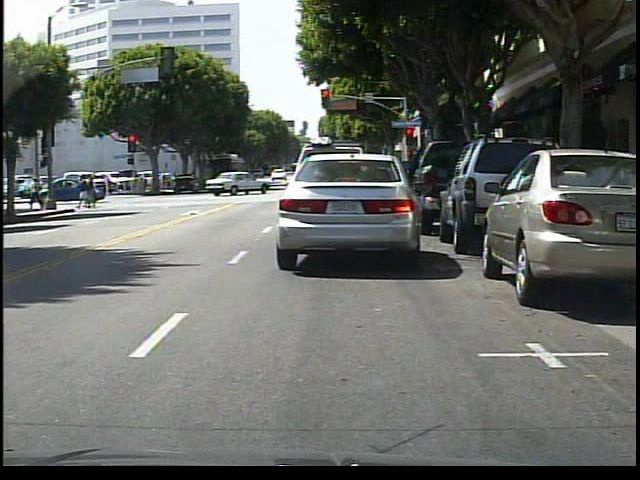person: (79, 176, 99, 209), (30, 176, 44, 210)
